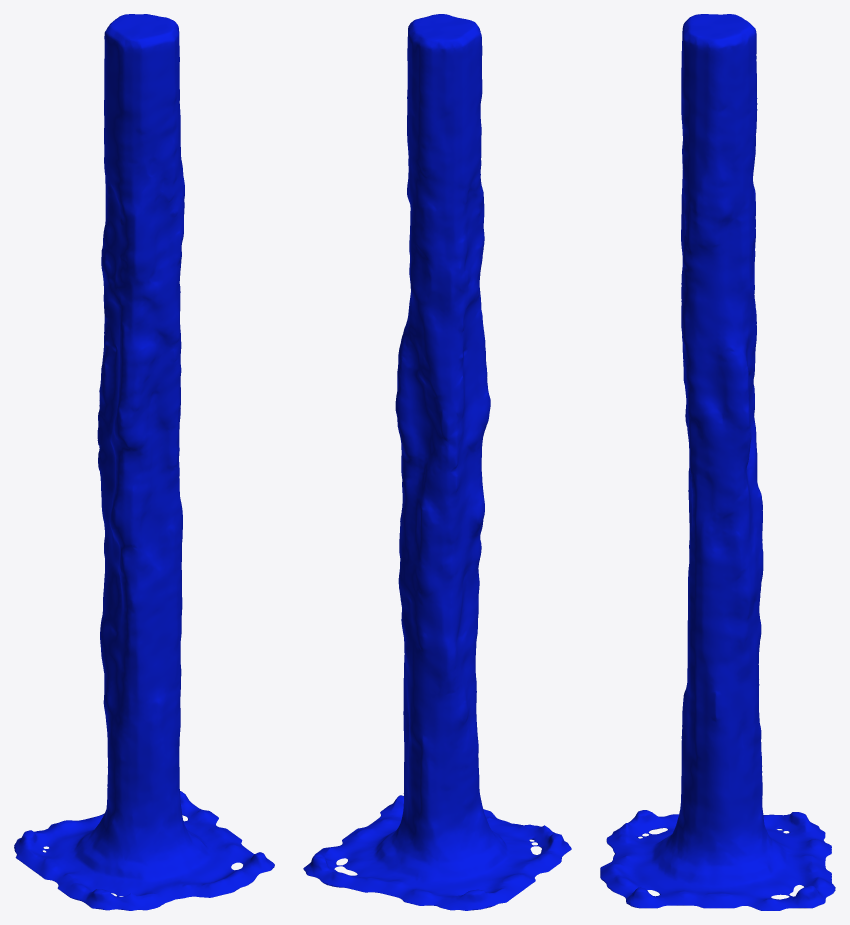
File: clflsplshfr.fbx
The picture shows the model from 3 angles, left to right: view 1: azimuth 30°, elevation 25°; view 2: azimuth 150°, elevation 25°; view 3: azimuth 270°, elevation 25°; orthographic projection.
Visible parts, largest first — view 1: Fluid Domain.001; view 2: Fluid Domain.001; view 3: Fluid Domain.001.
Boxes of the visible parts, x1=… form: Fluid Domain.001: x1=14, y1=14, x2=274, y2=910; Fluid Domain.001: x1=303, y1=14, x2=571, y2=910; Fluid Domain.001: x1=600, y1=14, x2=835, y2=910.
Bounding box in the file's own units: 314 × 1294 × 328.
